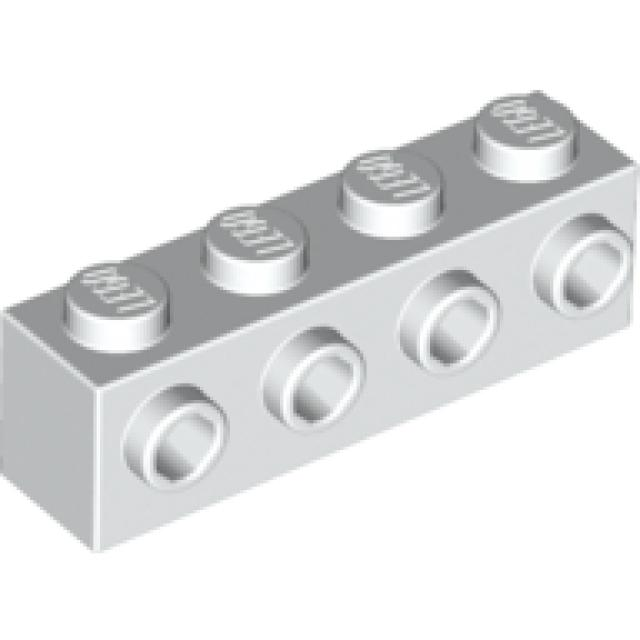White_Medium: (0, 90, 640, 557)
